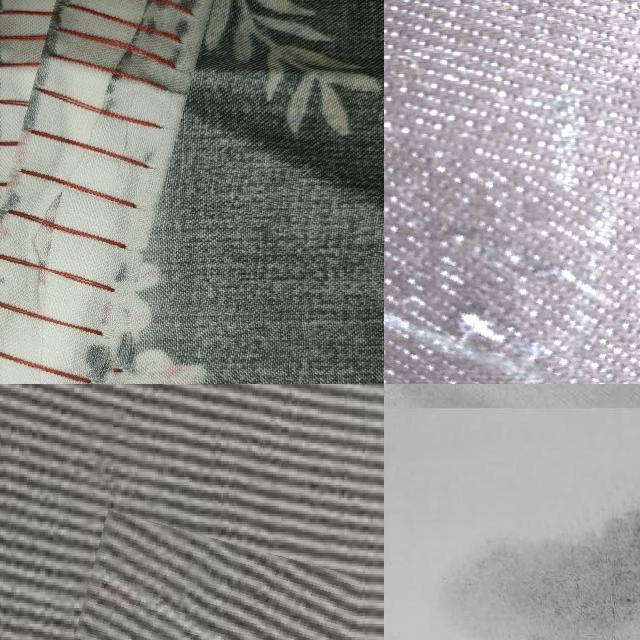Hole: (437, 487, 640, 640)
Thread_other: (384, 118, 640, 384), (41, 524, 343, 640)
